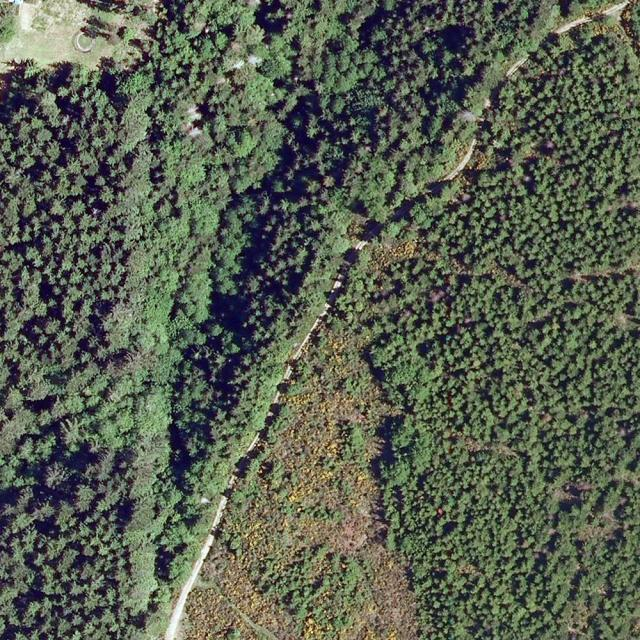greenland: (19, 0, 502, 508), (97, 54, 265, 603), (181, 316, 405, 639), (106, 0, 611, 106), (322, 152, 469, 355)
unmetalled_road: (287, 279, 346, 369), (236, 391, 286, 473), (331, 218, 384, 284), (442, 137, 483, 186), (210, 495, 229, 532), (503, 53, 531, 78)
